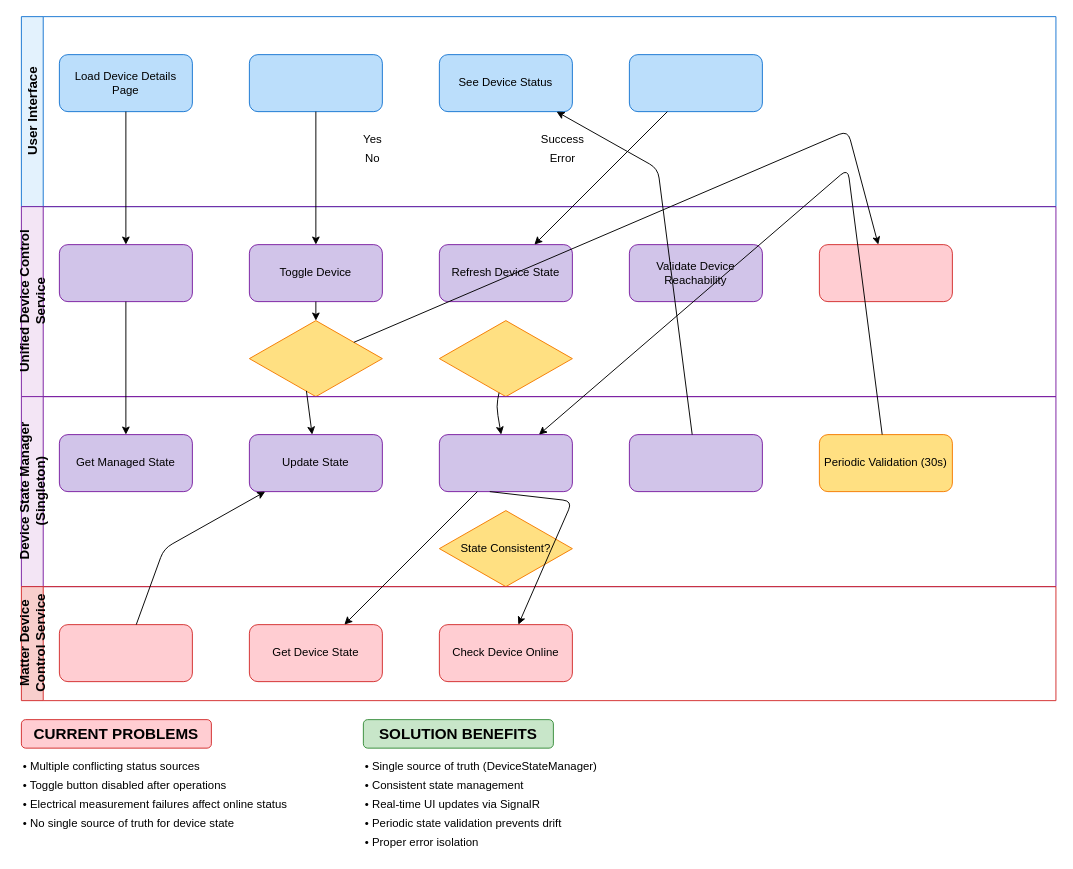
Some shapes in this 1073 by 869 pixel diagram are drawn without their labels. Here are the shapes that lost their labels. From the top down, the centre of each, then its label:
At pixel 315 83: "Click Toggle Button".
At pixel 695 83: "Click Refresh".
At pixel 125 273: "Get Device Status".
At pixel 885 273: "Error Handling & Logging".
At pixel 315 358: "Device Reachable?".
At pixel 505 358: "Toggle Success?".
At pixel 505 463: "Validate State".
At pixel 695 463: "Notify UI via SignalR".
At pixel 125 653: "Execute chip-tool Command".
